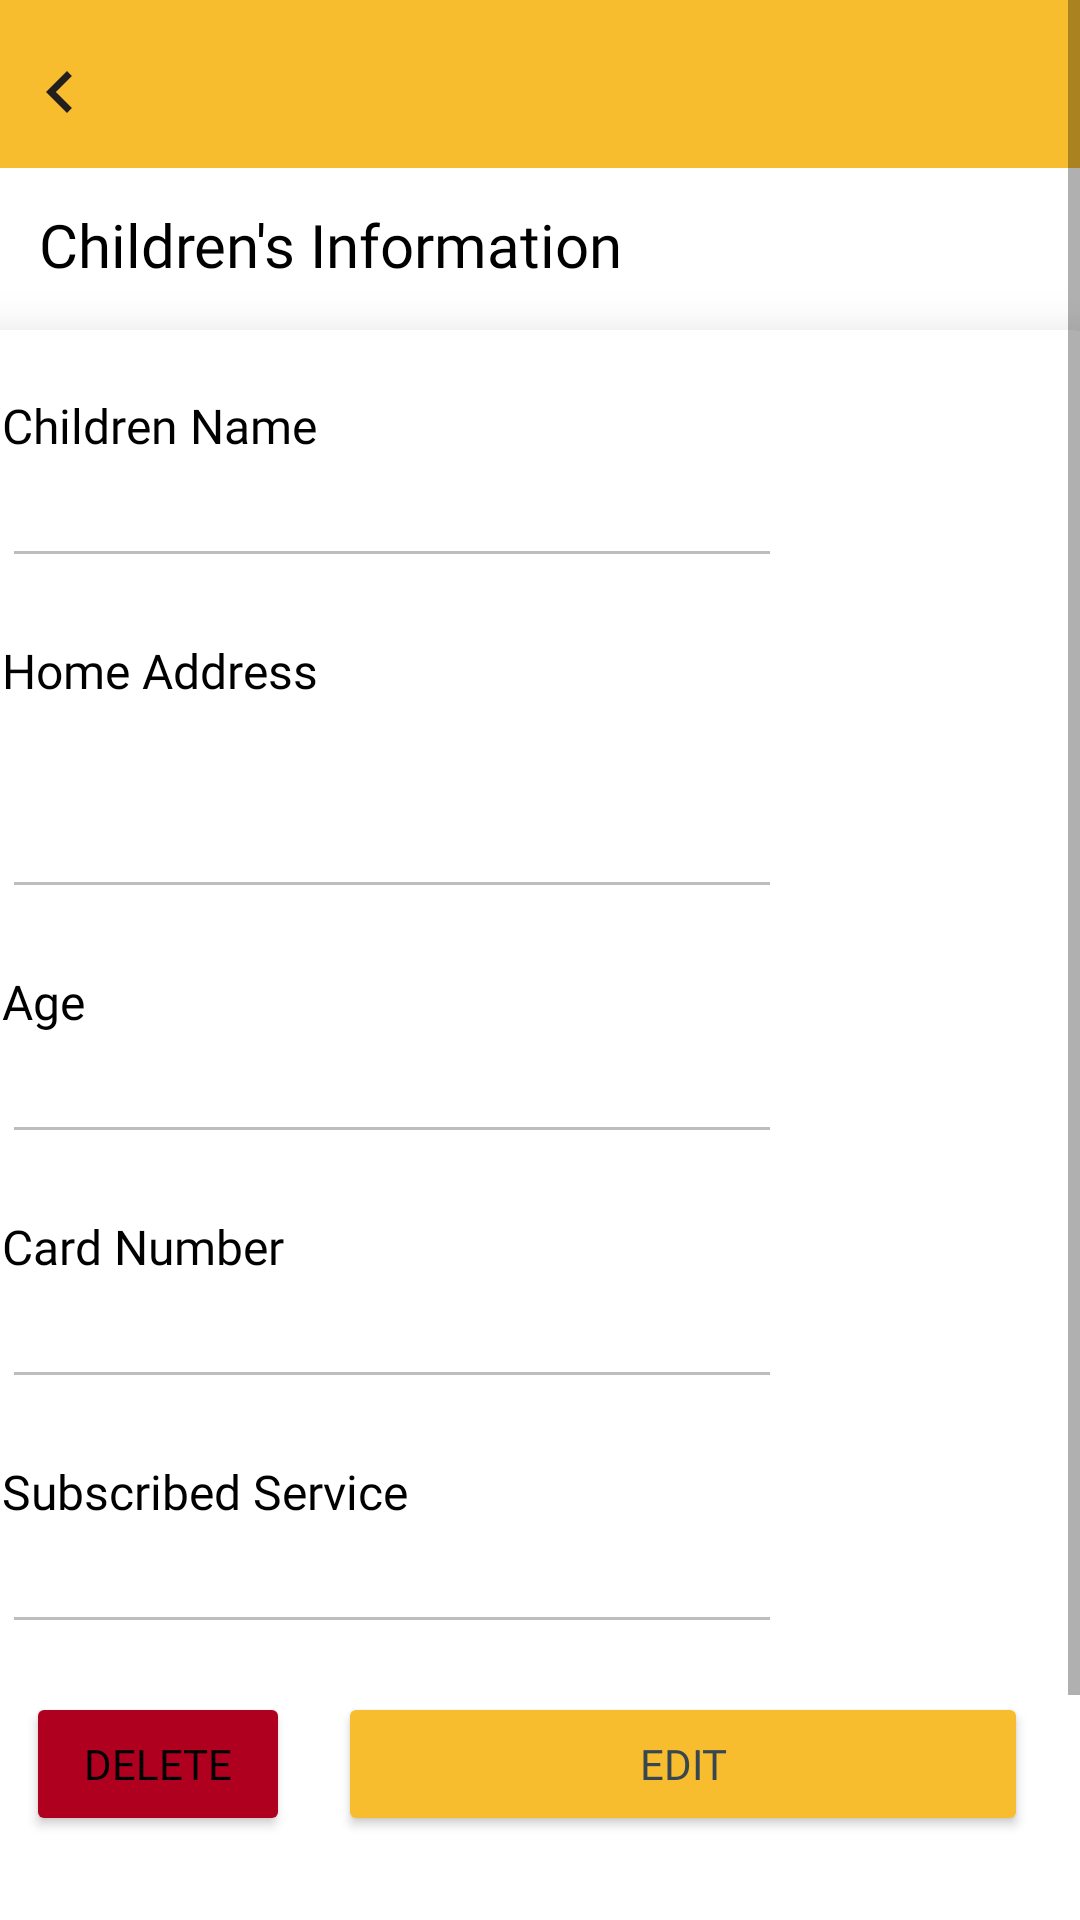

Icon click points for this 1080w x 1920h phone screenshot, format point (x, y):
chevron left: point (59, 92)
